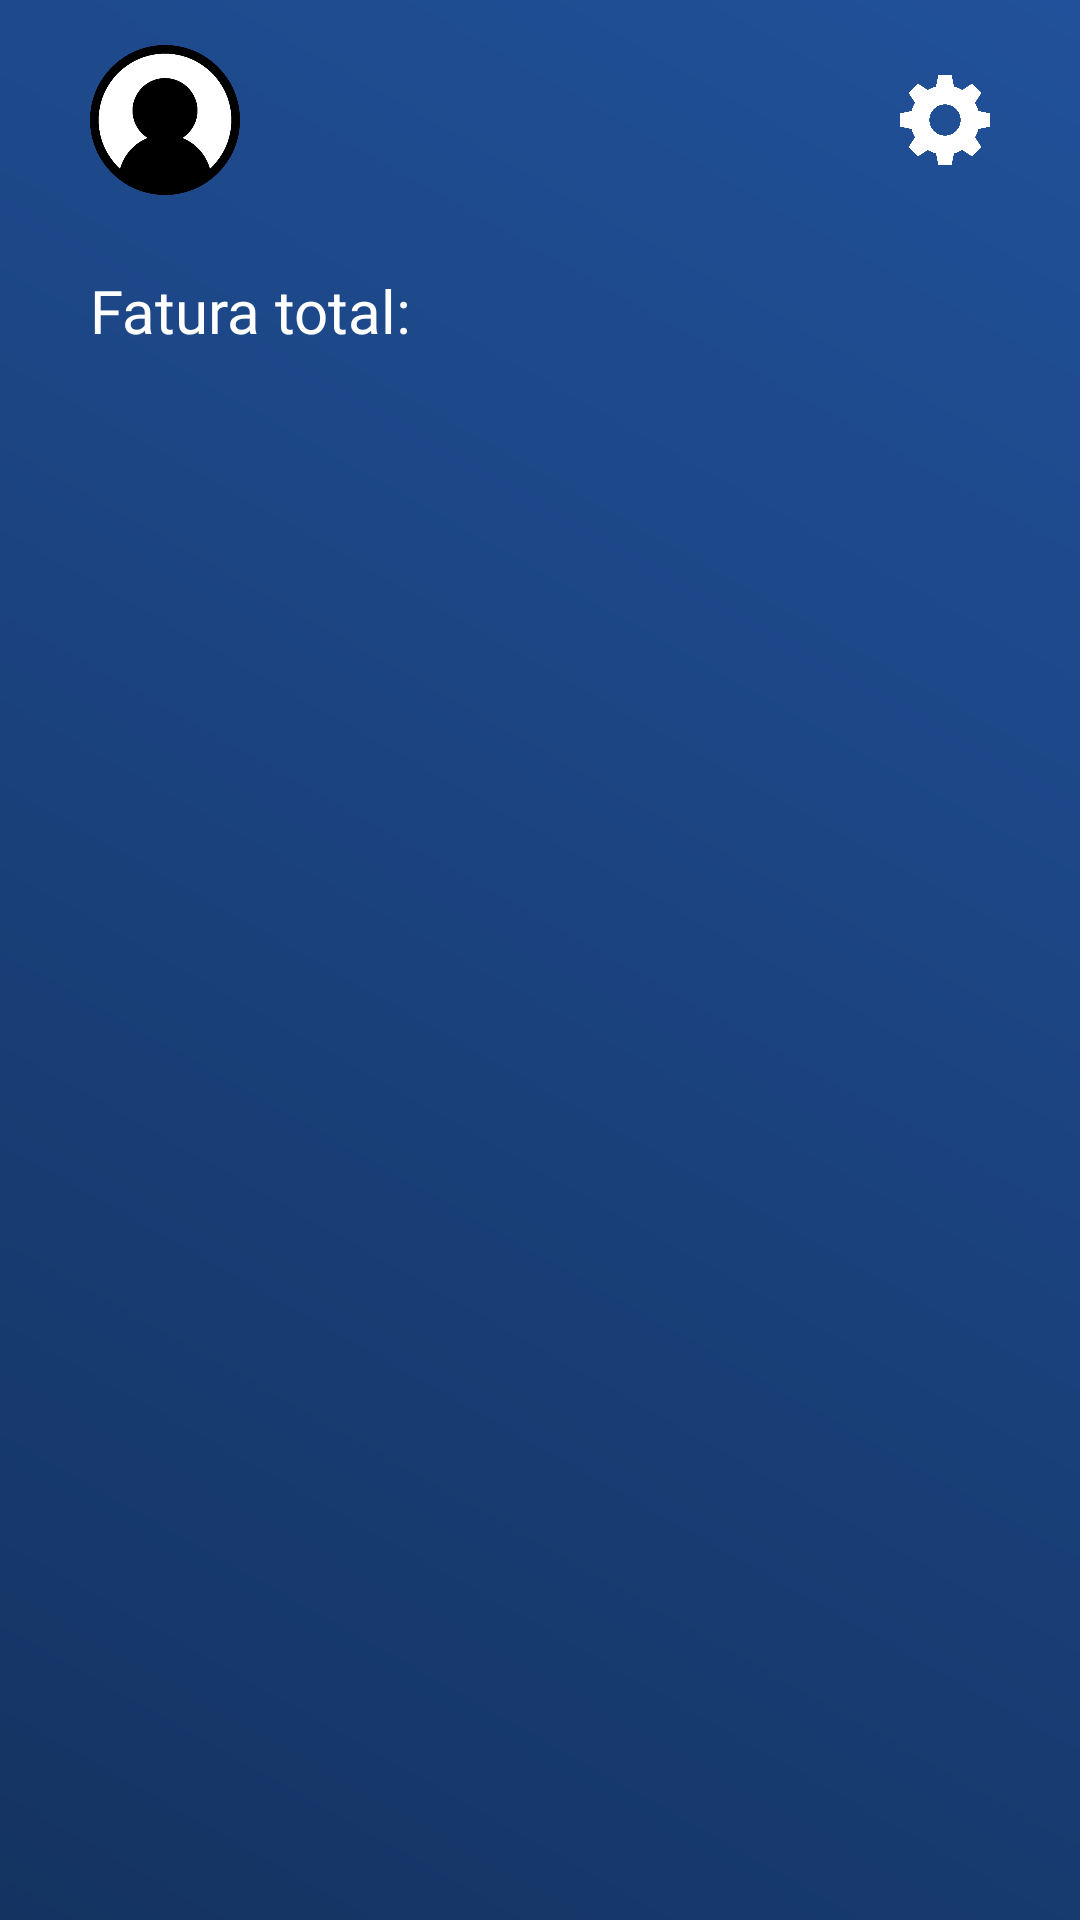

Icon click points for this 1080px x 1920px phone screenshot, format [x,y]:
config: [945,120]
